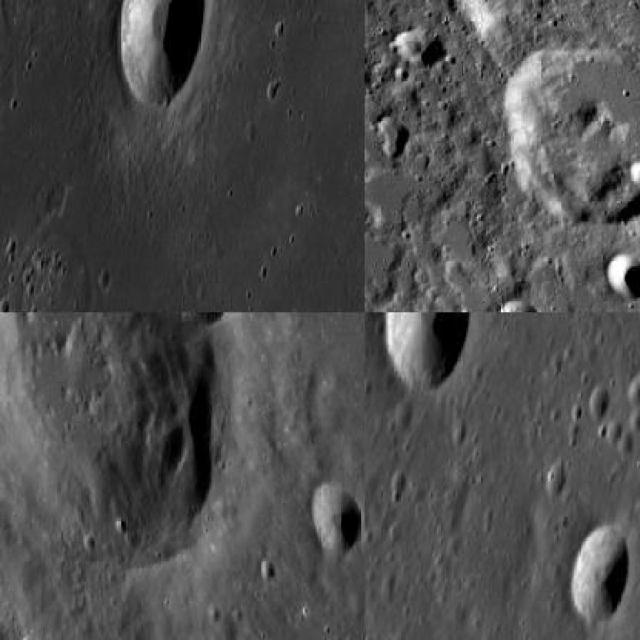crater: (0, 312, 228, 568), (502, 49, 638, 226), (117, 0, 206, 108), (382, 312, 471, 392), (569, 520, 628, 626), (311, 480, 360, 554), (604, 255, 638, 300), (495, 297, 540, 311)
